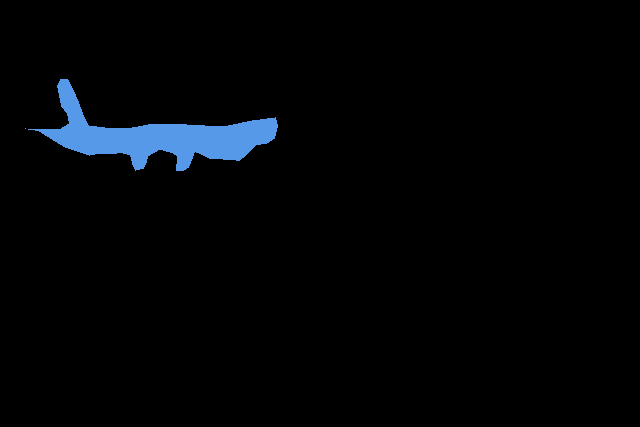Airplane: (25, 79, 277, 171)
